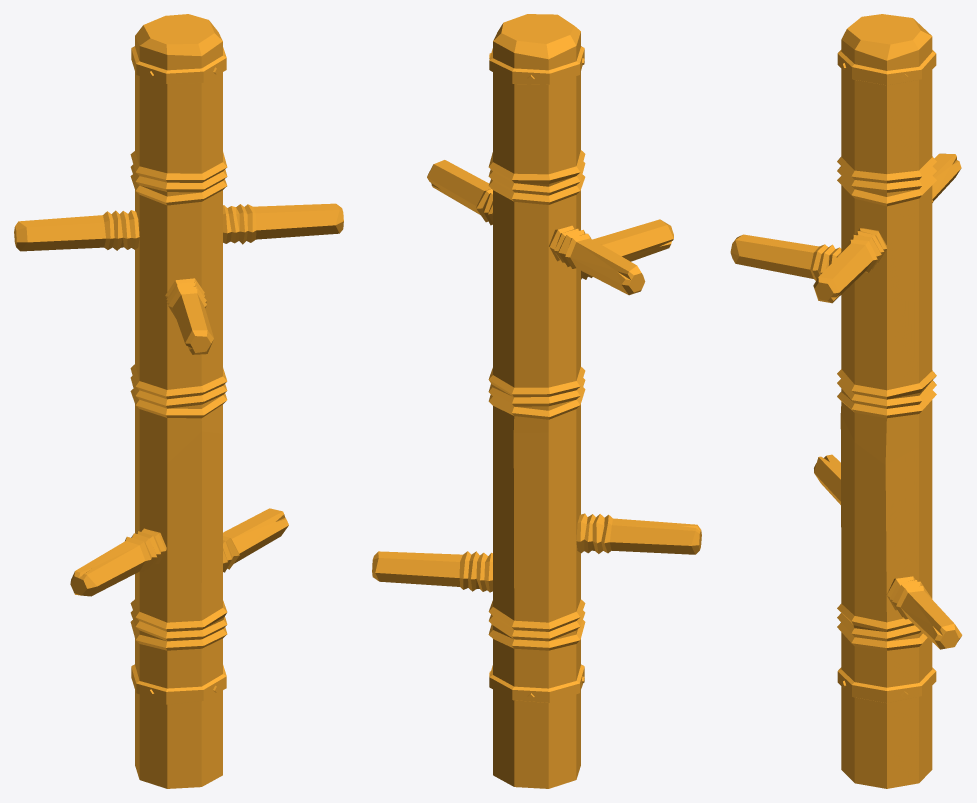
The model's file is SM_Training_Dummy_B_Fantasy.fbx.
3 renders of one model, left to right at view 1: azimuth 30°, elevation 25°; view 2: azimuth 150°, elevation 25°; view 3: azimuth 270°, elevation 25°, orthographic.
Parts seen in each view (by area): view 1: training-dummy-b-fantasy; view 2: training-dummy-b-fantasy; view 3: training-dummy-b-fantasy.
Boxes of the visible parts, box(x1,y1,x2,y2) form: training-dummy-b-fantasy: box(14, 14, 343, 788); training-dummy-b-fantasy: box(372, 14, 701, 788); training-dummy-b-fantasy: box(730, 14, 962, 788).
Size of the model in its own units: 0.7164 by 1.87 by 0.5316.
